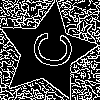C: (22, 27, 75, 71)
